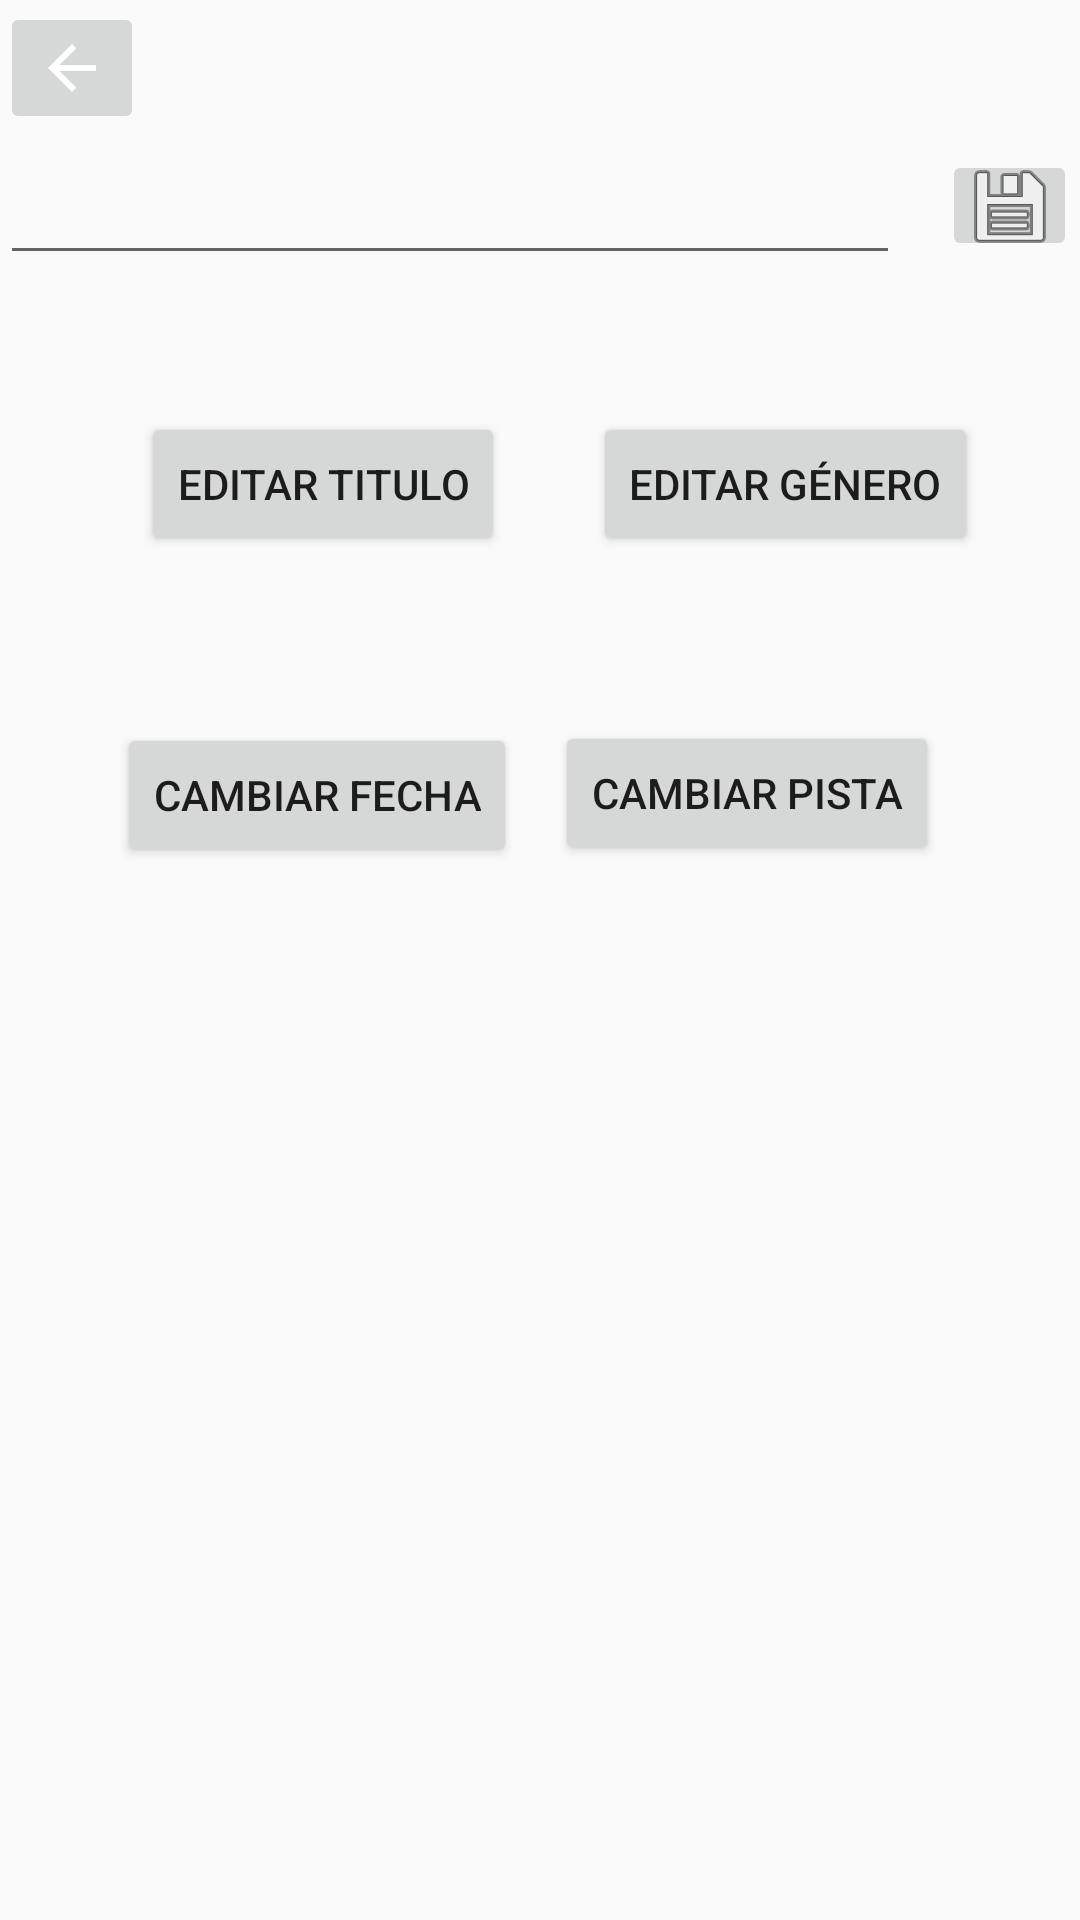

Point at icon controls on the screen. Image size 1080 × 1920, points as (x,y).
save: (1009,205)
